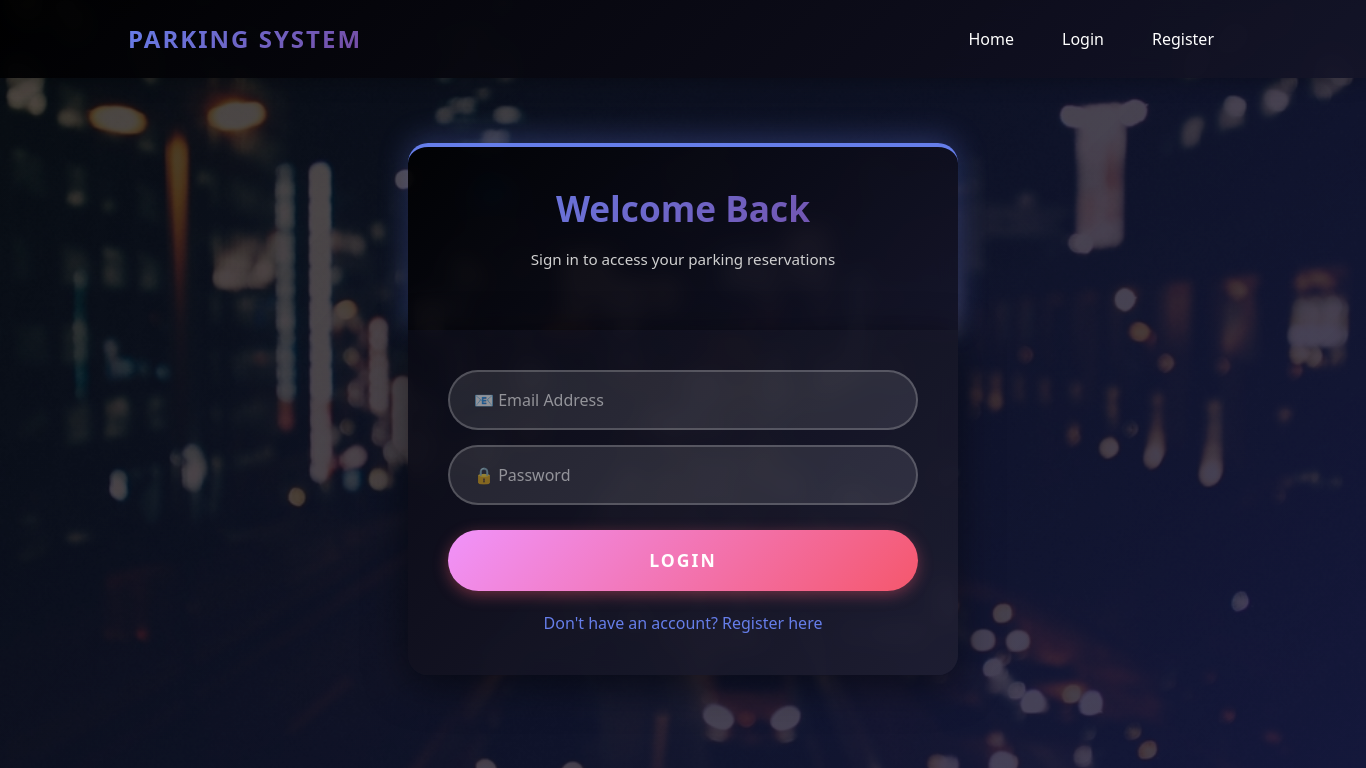
Login › should show error on invalid credentials
Type "wrong@example.com" into the field with placeholder "📧 Email Address" at [683, 400], box [448,370,918,430]
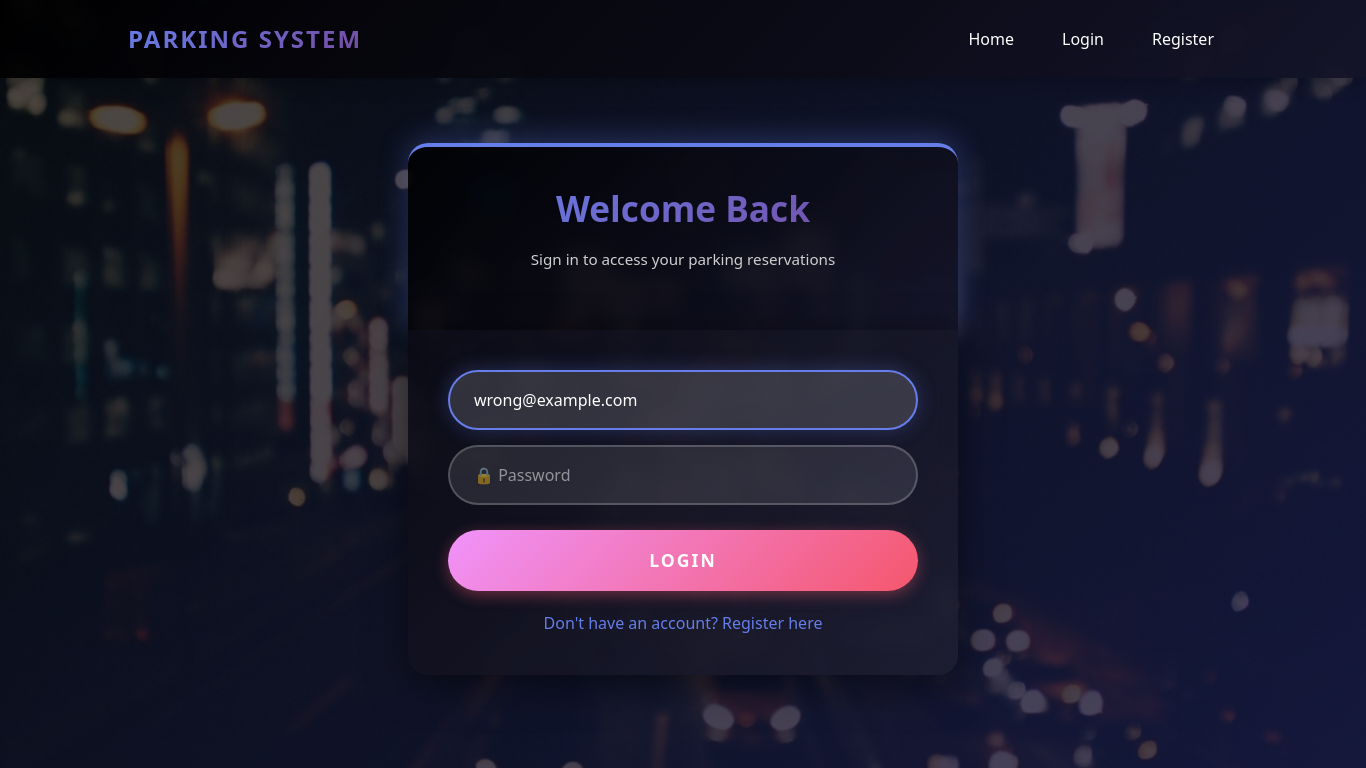
Type "wrongpassword" into the password field with placeholder "🔒 Password" at [683, 475], box [448,445,918,505]
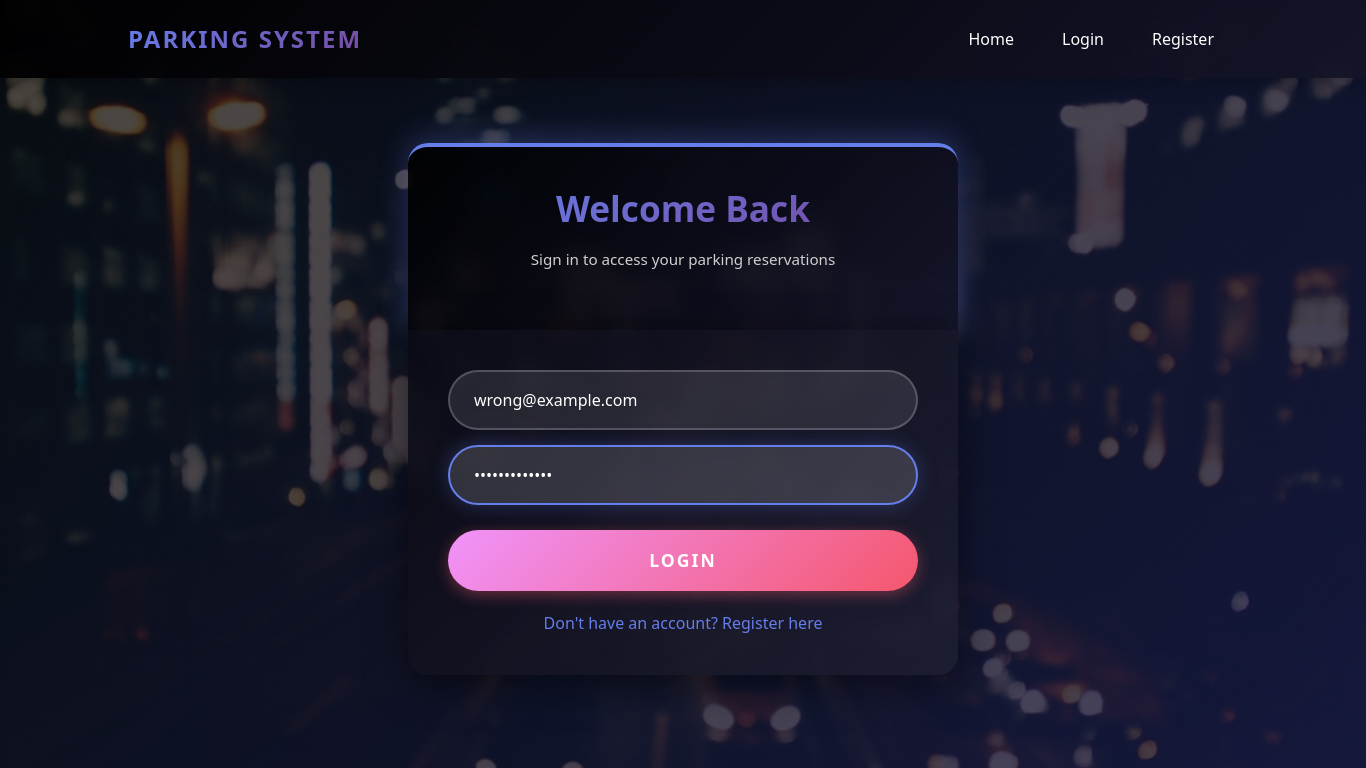
Click the button "LOGIN" at [683, 561], box [448,530,918,591]
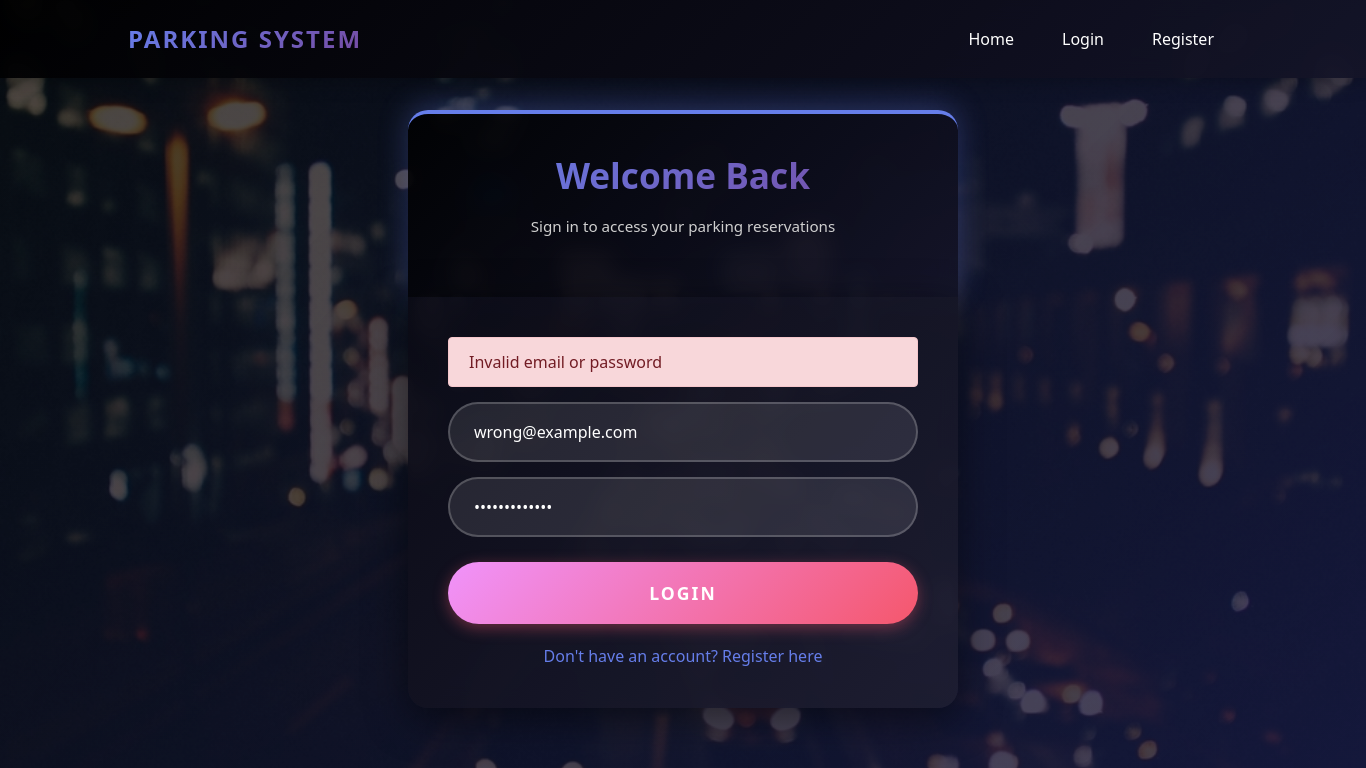
Now the text "Invalid email or password" is shown, box [448,337,918,387]
